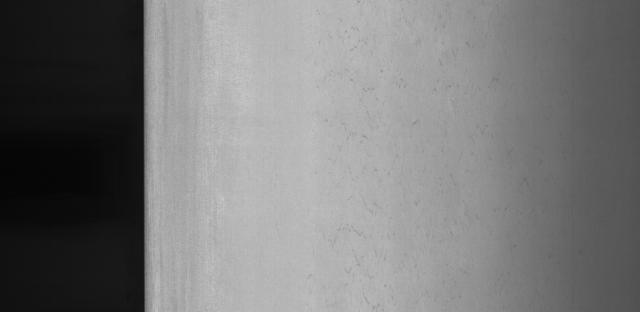silk_spot: (312, 4, 488, 286)
